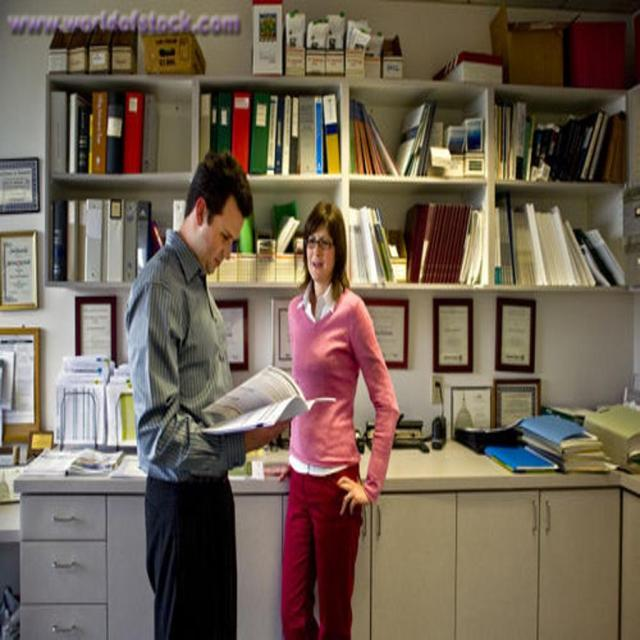Face: (197, 184, 248, 278), (302, 224, 343, 283)
